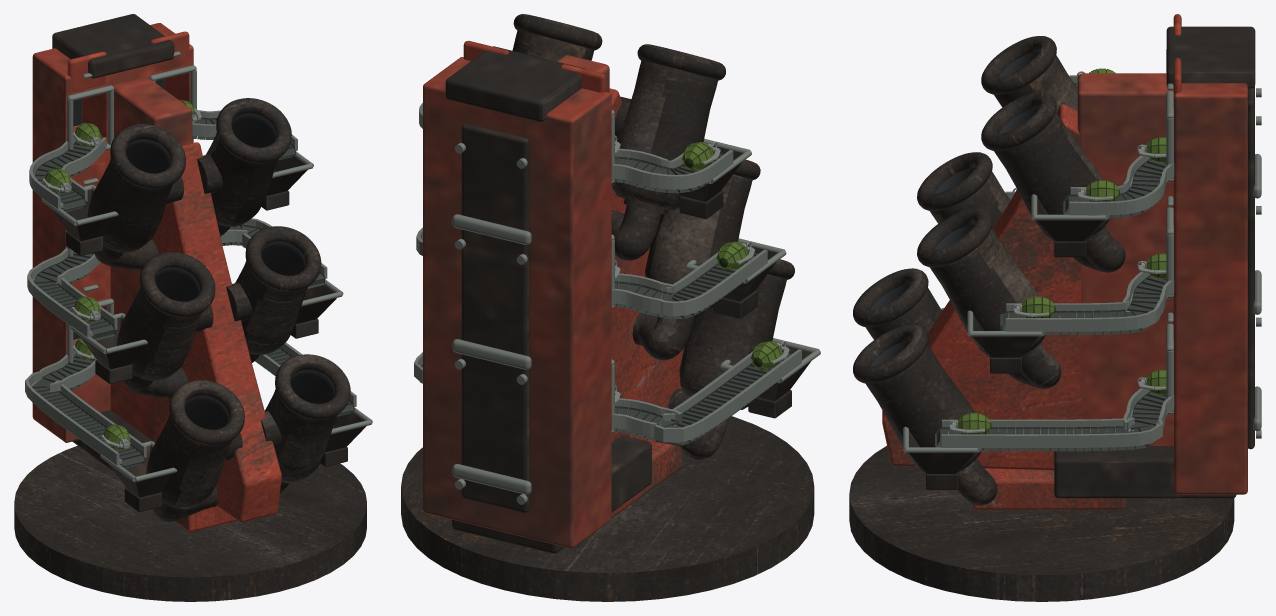
The model's file is six_lobber_central_feed_v08.glb.
3 renders of one model, left to right at view 1: azimuth 30°, elevation 25°; view 2: azimuth 150°, elevation 25°; view 3: azimuth 270°, elevation 25°, orthographic. The views are drawn at different scales.
Visible parts, largest first — view 1: ROTARY_ADAPTER, CENTRAL_FIN, CENTRAL_AMMUNITION_ARMOURED_SPINE, CAST_CANNON_LEFT_1, CAST_CANNON_LEFT_2, CAST_CANNON_LEFT_3, CENTRAL_ARM_TO_FIN_BRIDGE, ROUNDED_MUZZLE_LEFT_2, ROUNDED_MUZZLE_LEFT_3, ROUNDED_MUZZLE_LEFT_1, CENTRAL_FEED_TOP_CAP, SLOPED_EXIT_CHUTE_LEFT_3 (+26 smaller); view 2: CENTRAL_AMMUNITION_ARMOURED_SPINE, ROTARY_ADAPTER, SPINE_REAR_SERVICE_COVER, CAST_CANNON_LEFT_1, CENTRAL_FEED_TOP_CAP, CAST_CANNON_LEFT_3, CAST_CANNON_LEFT_2, CENTRAL_FIN, SLOPED_EXIT_CHUTE_LEFT_3, SLOPED_EXIT_CHUTE_LEFT_2, CENTRAL_FEED_BASE_CASTING, ROUNDED_MUZZLE_LEFT_1 (+22 smaller); view 3: ROTARY_ADAPTER, CENTRAL_AMMUNITION_ARMOURED_SPINE, CENTRAL_ARM_TO_FIN_BRIDGE, CENTRAL_FIN, CAST_CANNON_LEFT_1, CAST_CANNON_LEFT_2, CAST_CANNON_LEFT_3, CENTRAL_FEED_BASE_CASTING, SLOPED_EXIT_CHUTE_LEFT_3, ROUNDED_MUZZLE_LEFT_2, ROUNDED_MUZZLE_LEFT_1, ROUNDED_MUZZLE_LEFT_3 (+18 smaller).
Boxes of the visible parts, x1=… form: ROTARY_ADAPTER: x1=14, y1=445, x2=366, y2=601; CENTRAL_FIN: x1=153, y1=142, x2=281, y2=522; CENTRAL_AMMUNITION_ARMOURED_SPINE: x1=32, y1=23, x2=193, y2=442; CAST_CANNON_LEFT_1: x1=87, y1=113, x2=278, y2=252; CAST_CANNON_LEFT_2: x1=117, y1=241, x2=307, y2=380; CAST_CANNON_LEFT_3: x1=146, y1=370, x2=337, y2=508; CENTRAL_ARM_TO_FIN_BRIDGE: x1=110, y1=77, x2=192, y2=440; ROUNDED_MUZZLE_LEFT_2: x1=139, y1=226, x2=321, y2=317; ROUNDED_MUZZLE_LEFT_3: x1=169, y1=354, x2=350, y2=445; ROUNDED_MUZZLE_LEFT_1: x1=110, y1=98, x2=291, y2=188; CENTRAL_FEED_TOP_CAP: x1=52, y1=14, x2=174, y2=78; SLOPED_EXIT_CHUTE_LEFT_3: x1=25, y1=342, x2=356, y2=464; CENTRAL_AMMUNITION_ARMOURED_SPINE: x1=423, y1=57, x2=611, y2=548; ROTARY_ADAPTER: x1=401, y1=416, x2=814, y2=601; SPINE_REAR_SERVICE_COVER: x1=461, y1=123, x2=529, y2=512; CAST_CANNON_LEFT_1: x1=512, y1=30, x2=717, y2=210; CENTRAL_FEED_TOP_CAP: x1=445, y1=46, x2=585, y2=121; CAST_CANNON_LEFT_3: x1=679, y1=274, x2=786, y2=409; CAST_CANNON_LEFT_2: x1=645, y1=174, x2=752, y2=310; CENTRAL_FIN: x1=609, y1=88, x2=684, y2=442; SLOPED_EXIT_CHUTE_LEFT_3: x1=414, y1=349, x2=801, y2=442; SLOPED_EXIT_CHUTE_LEFT_2: x1=416, y1=227, x2=767, y2=316; CENTRAL_FEED_BASE_CASTING: x1=452, y1=435, x2=651, y2=553; ROUNDED_MUZZLE_LEFT_1: x1=513, y1=14, x2=725, y2=80; ROTARY_ADAPTER: x1=849, y1=446, x2=1234, y2=601; CENTRAL_AMMUNITION_ARMOURED_SPINE: x1=1174, y1=83, x2=1247, y2=494; CENTRAL_ARM_TO_FIN_BRIDGE: x1=1077, y1=73, x2=1173, y2=445; CENTRAL_FIN: x1=882, y1=104, x2=1081, y2=470; CAST_CANNON_LEFT_1: x1=994, y1=52, x2=1109, y2=240; CAST_CANNON_LEFT_2: x1=930, y1=168, x2=1045, y2=357; CAST_CANNON_LEFT_3: x1=866, y1=284, x2=981, y2=473; CENTRAL_FEED_BASE_CASTING: x1=1054, y1=446, x2=1236, y2=498; SLOPED_EXIT_CHUTE_LEFT_3: x1=941, y1=308, x2=1174, y2=447; ROUNDED_MUZZLE_LEFT_2: x1=917, y1=152, x2=992, y2=267; ROUNDED_MUZZLE_LEFT_1: x1=981, y1=36, x2=1056, y2=151; ROUNDED_MUZZLE_LEFT_3: x1=853, y1=268, x2=928, y2=383.
Bounding box in the file's own units: 1.56 × 2.13 × 1.67.
11 materials, 2 textured.
